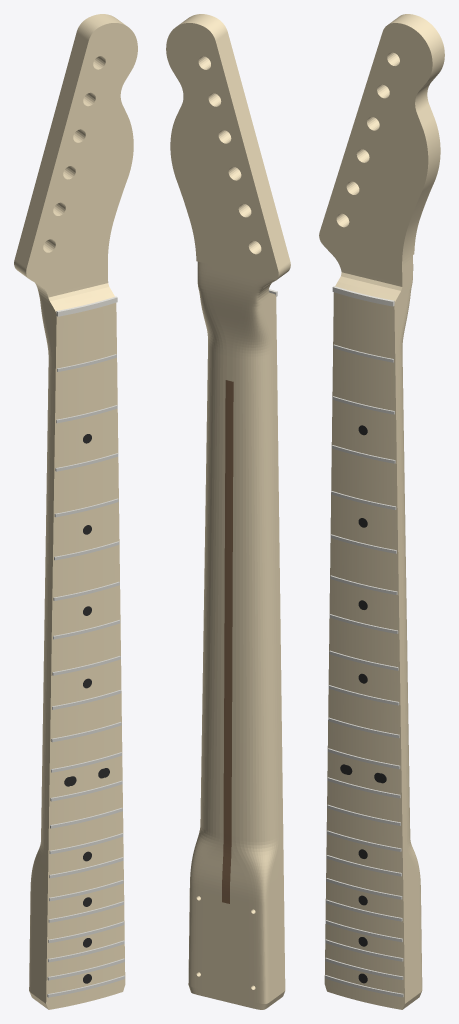
The model's file is neck.glb.
3 views of the same model, side by side, from view 1: azimuth 30°, elevation 25°; view 2: azimuth 150°, elevation 25°; view 3: azimuth 330°, elevation 25° (orthographic).
Parts seen in each view (by area): view 1: neck, headstock, nut, fret_19, fret_20, fret_21, fret_18, fret_17, fret_14, fret_16, fret_15, fret_13 (+2 smaller); view 2: neck, headstock, skunk_stripe; view 3: neck, headstock, nut, fret_20, fret_21, fret_19, fret_18, fret_17, fret_16, fret_15, fret_14, fret_13 (+4 smaller).
Part boxes in pixels (left/top/right/bottom): neck: left=29, top=256, right=125, bottom=1009; headstock: left=14, top=14, right=137, bottom=278; nut: left=56, top=296, right=117, bottom=316; fret_19: left=48, top=940, right=124, bottom=962; fret_20: left=47, top=958, right=124, bottom=980; fret_21: left=47, top=975, right=124, bottom=997; fret_18: left=48, top=921, right=124, bottom=943; fret_17: left=48, top=901, right=123, bottom=922; fret_14: left=49, top=833, right=123, bottom=854; fret_16: left=49, top=880, right=123, bottom=901; fret_15: left=49, top=857, right=123, bottom=878; fret_13: left=50, top=807, right=122, bottom=828; neck: left=188, top=261, right=285, bottom=1009; headstock: left=166, top=14, right=290, bottom=280; skunk_stripe: left=222, top=380, right=233, bottom=903; neck: left=321, top=240, right=422, bottom=1009; headstock: left=319, top=14, right=444, bottom=262; nut: left=332, top=286, right=394, bottom=306; fret_20: left=325, top=957, right=403, bottom=979; fret_21: left=325, top=975, right=403, bottom=997; fret_19: left=325, top=939, right=403, bottom=961; fret_18: left=325, top=920, right=402, bottom=942; fret_17: left=326, top=899, right=402, bottom=921; fret_16: left=326, top=878, right=402, bottom=899; fret_15: left=326, top=855, right=401, bottom=876; fret_14: left=327, top=830, right=401, bottom=851; fret_13: left=327, top=804, right=400, bottom=825.
Size of the model in its own units: 0.0785 by 0.6474 by 0.0273.
